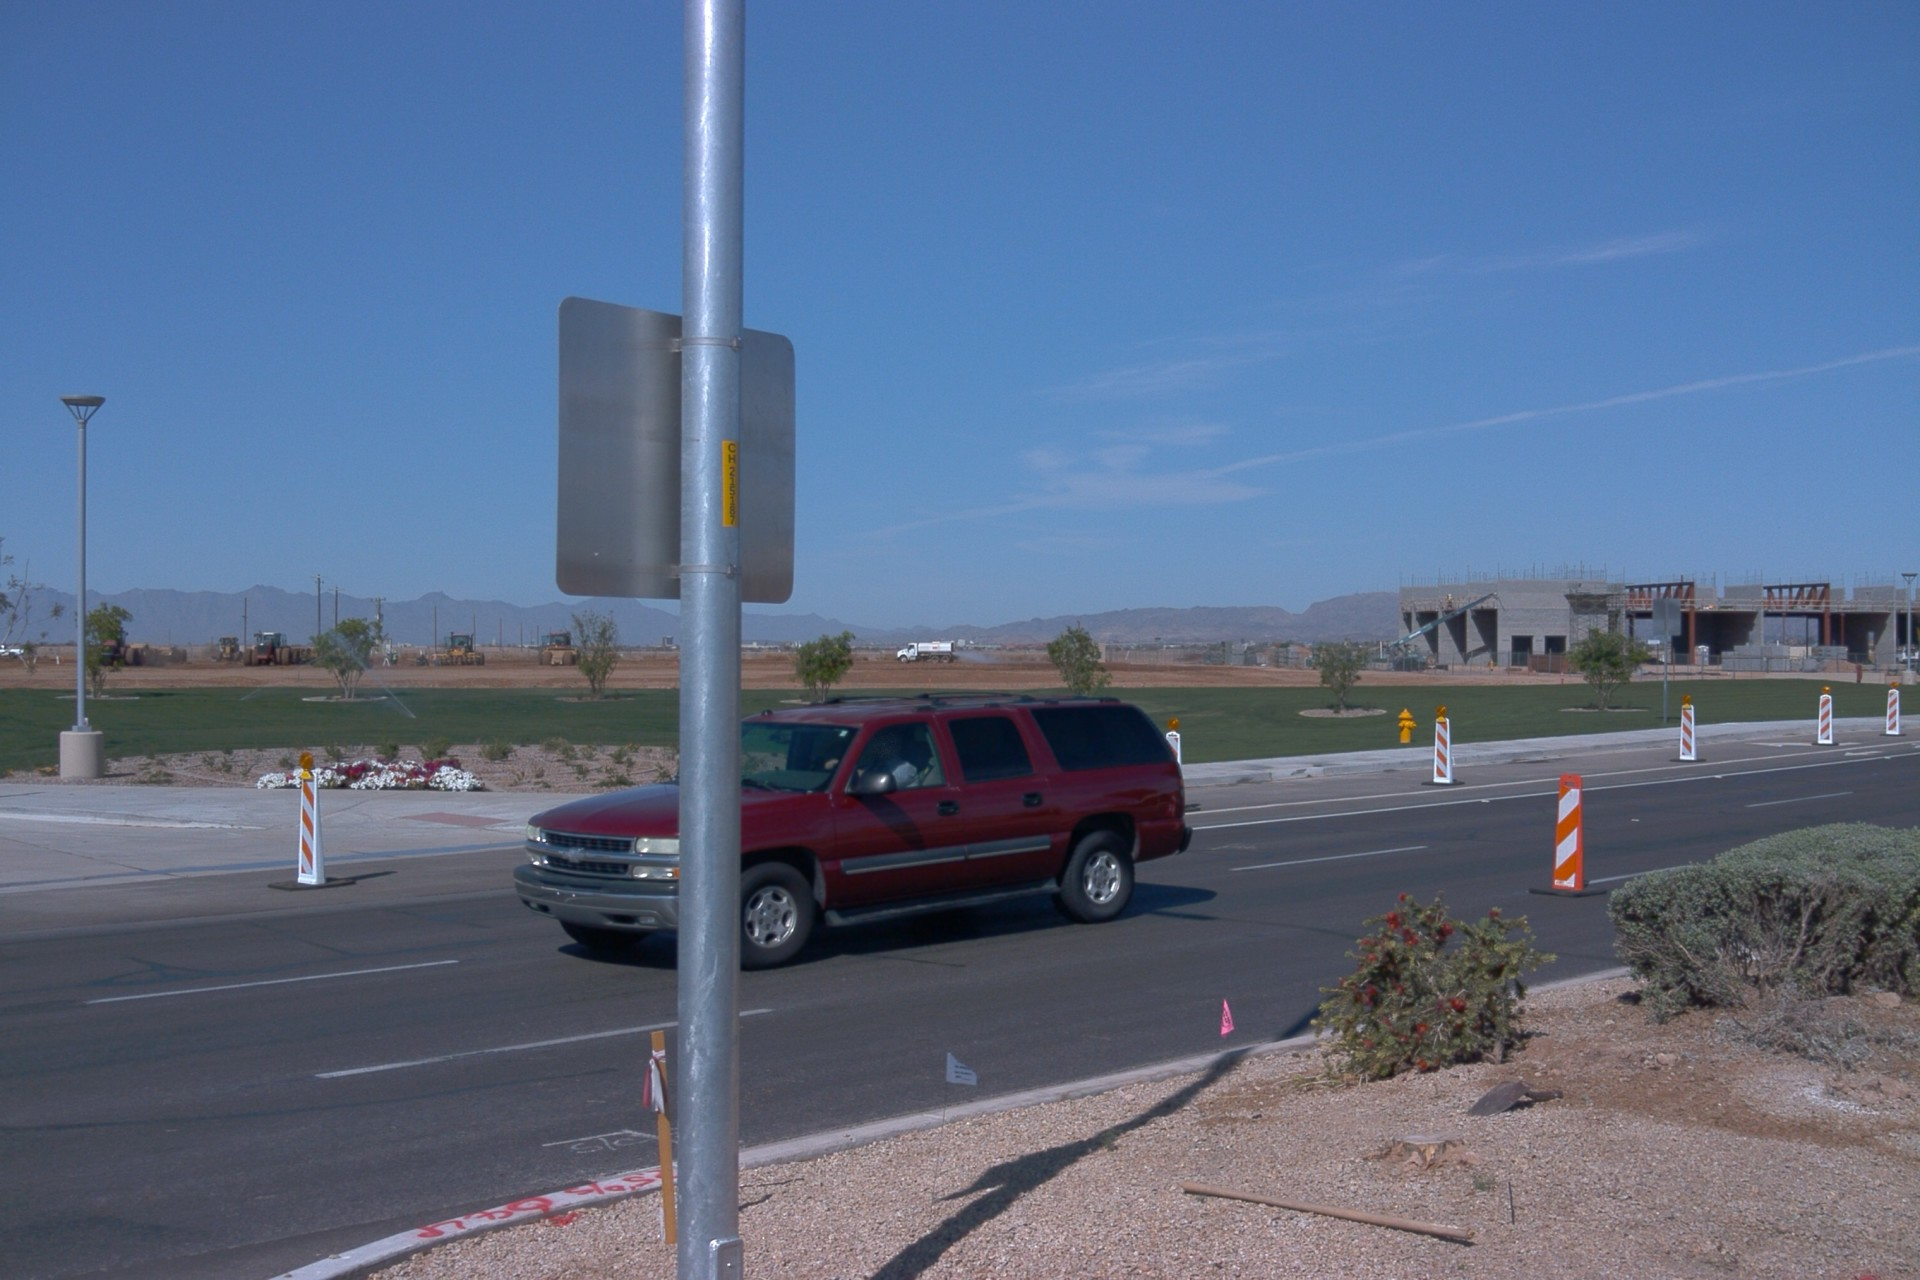TYPE_PEDESTRIAN: (433, 651, 442, 669), (389, 650, 399, 665)
TYPE_VEHICLE: (511, 687, 1193, 975), (1388, 594, 1508, 668), (243, 629, 321, 668), (86, 625, 139, 667), (894, 637, 959, 662), (211, 636, 243, 664), (1, 643, 24, 659)
